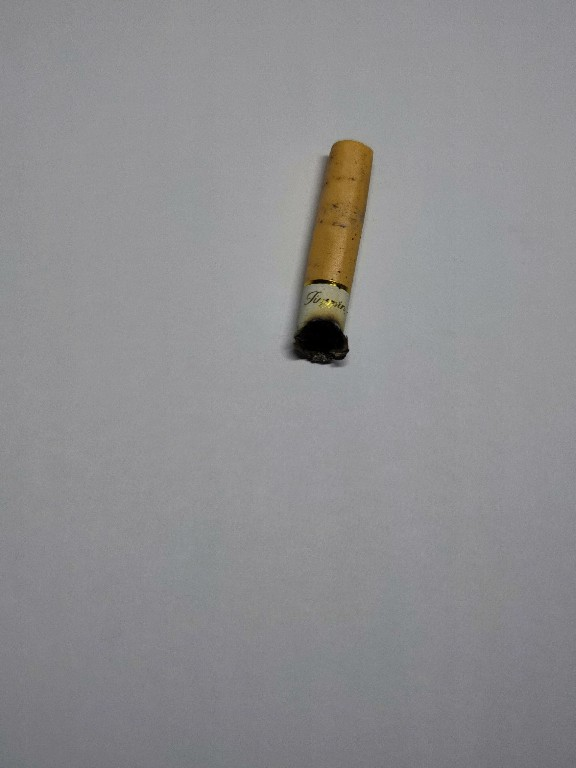cigarette: (285, 135, 376, 369)
